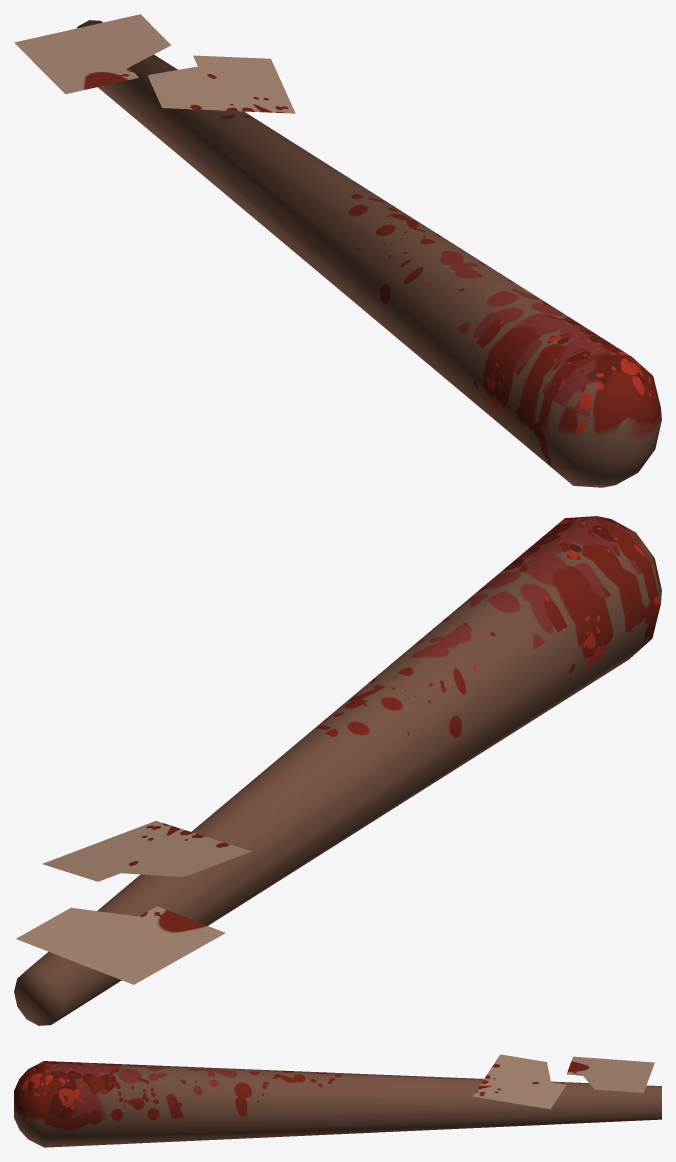
Rendered from Palica1.fbx.
3 renders of one model, top to bottom at view 1: azimuth 30°, elevation 25°; view 2: azimuth 150°, elevation 25°; view 3: azimuth 270°, elevation 25°, orthographic. The views are drawn at different scales.
Parts seen in each view (by area): view 1: Palica; view 2: Palica; view 3: Palica.
Boxes of the visible parts, x1,y1,x2,y2 form: Palica: [14, 14, 661, 487]; Palica: [14, 516, 661, 1025]; Palica: [14, 1054, 661, 1147].
Size of the model in its own units: 11.75 by 7.98 by 58.48.
Materials: 1 (1 with a texture image).
